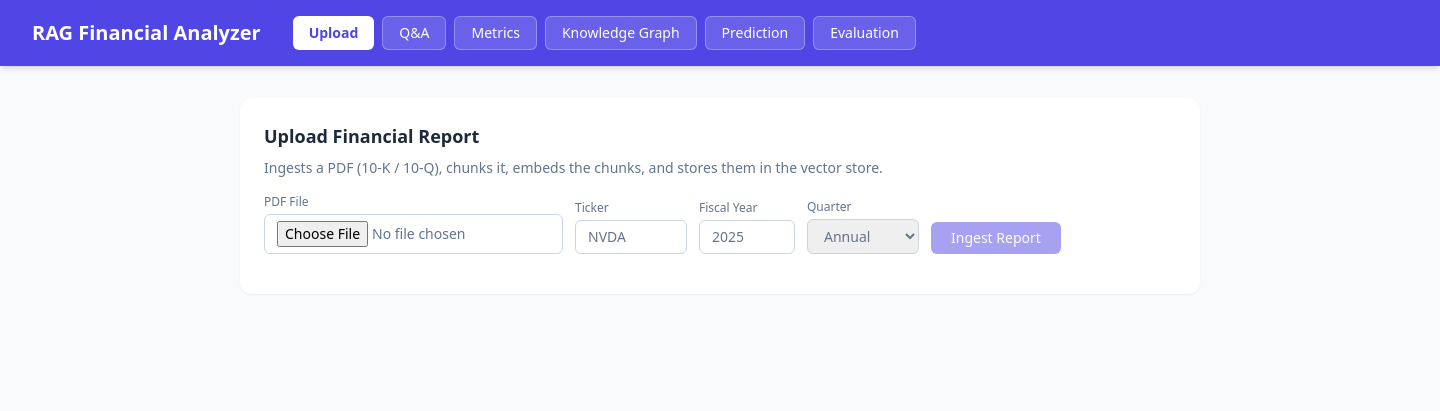
Test case: clicking Prediction tab shows prediction panel
Click the button "Prediction" at (755, 33), box x1=704 y1=16 x2=805 y2=50
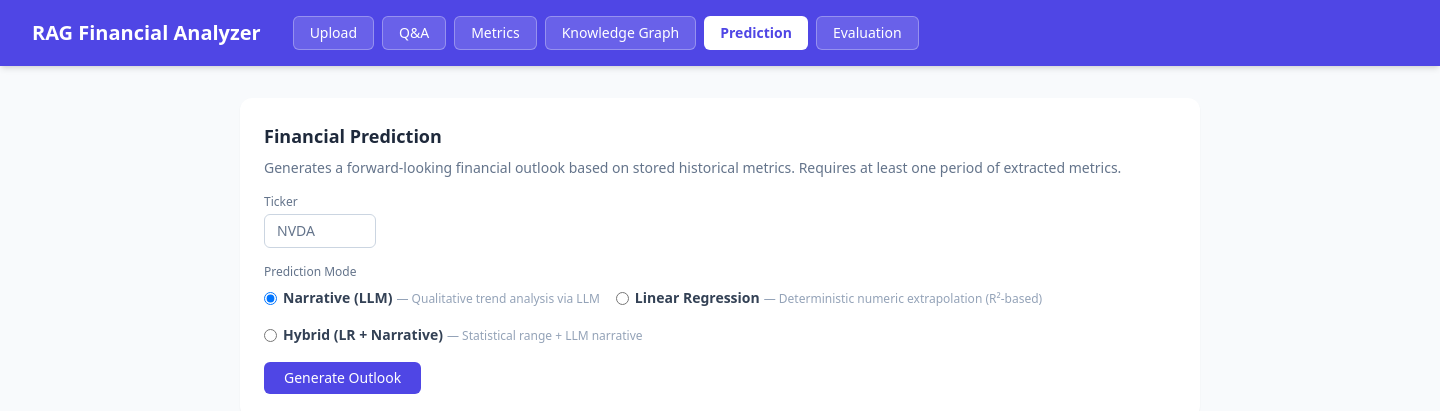
Now the button "Generate Outlook" is shown, box x1=264 y1=362 x2=421 y2=394
